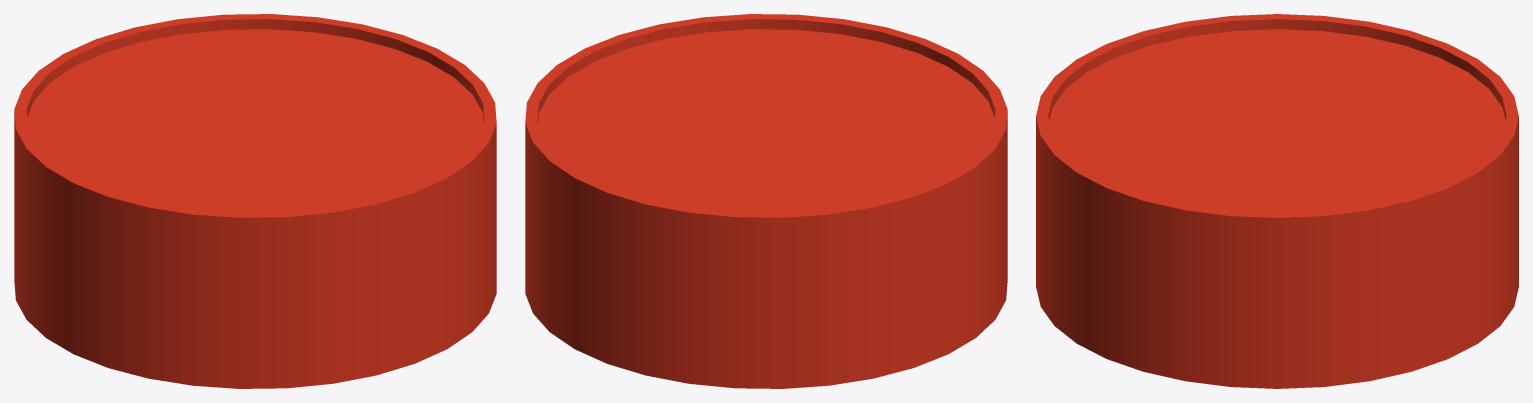
The model's file is Small Tin.fbx.
The picture shows the model from 3 angles, left to right: view 1: azimuth 30°, elevation 25°; view 2: azimuth 150°, elevation 25°; view 3: azimuth 270°, elevation 25°; orthographic projection.
Parts seen in each view (by area): view 1: Small Tin; view 2: Small Tin; view 3: Small Tin.
Part boxes in pixels (x1,y1,x2,y2): Small Tin: (14, 14, 496, 388); Small Tin: (525, 14, 1007, 388); Small Tin: (1036, 14, 1518, 388).
Bounding box in the file's own units: 11.57 × 11.57 × 4.52.
